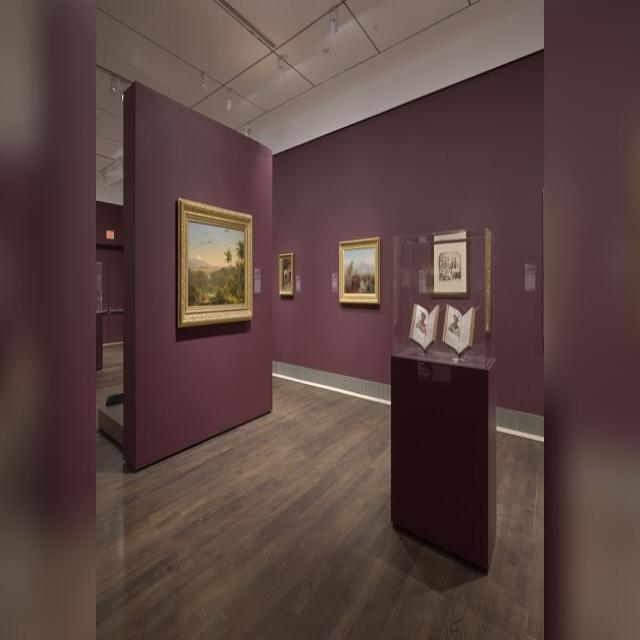Tablo: (188, 220, 245, 306), (343, 246, 376, 294), (281, 258, 291, 291)
